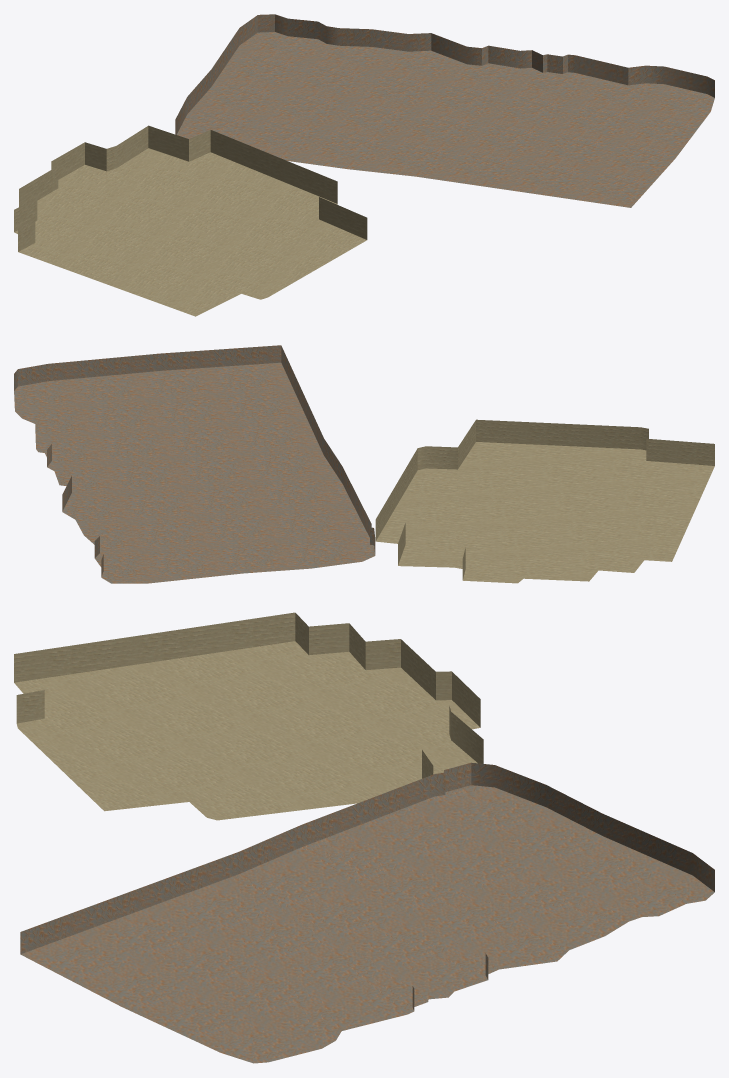
The model's file is placas_23_13_web.glb.
The picture shows the model from 3 angles, top to bottom: view 1: azimuth 30°, elevation 25°; view 2: azimuth 150°, elevation 25°; view 3: azimuth 270°, elevation 25°; orthographic projection. The views are drawn at different scales.
Visible parts, largest first — view 1: Placa_Azul_Gravada, Placa_Rosto_Pixelado; view 2: Placa_Azul_Gravada, Placa_Rosto_Pixelado; view 3: Placa_Azul_Gravada, Placa_Rosto_Pixelado.
Part boxes in pixels (x1,y1,x2,y2): Placa_Azul_Gravada: (175,14,714,207); Placa_Rosto_Pixelado: (14,125,367,316); Placa_Azul_Gravada: (14,345,375,583); Placa_Rosto_Pixelado: (375,419,714,583); Placa_Azul_Gravada: (20,762,714,1063); Placa_Rosto_Pixelado: (14,612,483,820).
Bounding box in the file's own units: 0.4435 × 0.014 × 0.311.
4 materials, 4 textured.
